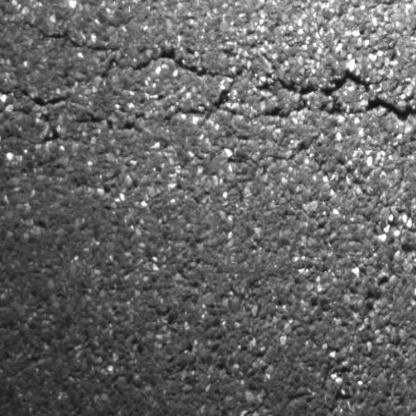Cracks: (9, 17, 416, 129), (0, 82, 76, 113)
